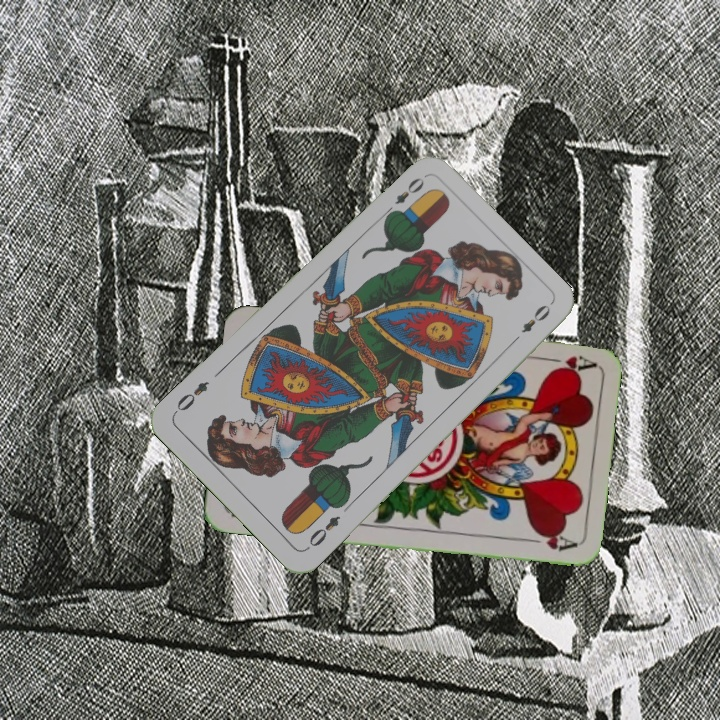EO: (380, 173, 427, 219), (301, 511, 343, 553)
HA: (537, 352, 596, 377)
